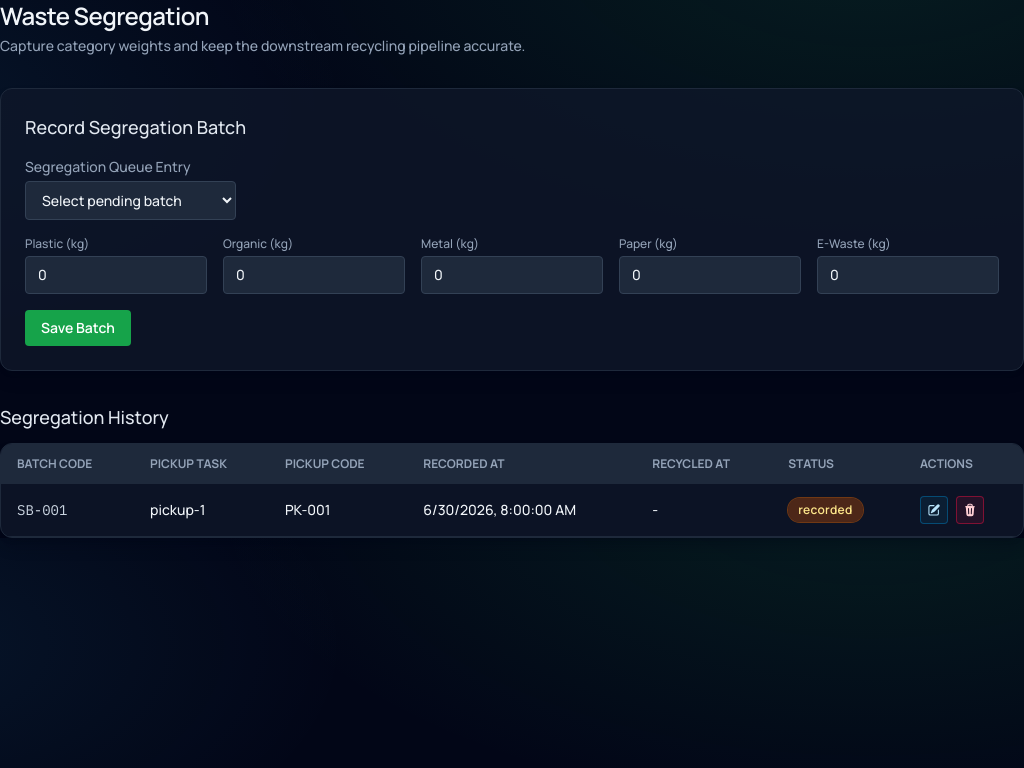
Test: SegregationPage integration › loads detail endpoint when view action is clicked
What coordinates should you click on to do the following:
click the button named "View"
I would click on:
 (934, 510)
Its box is left=920, top=496, right=948, bottom=524.
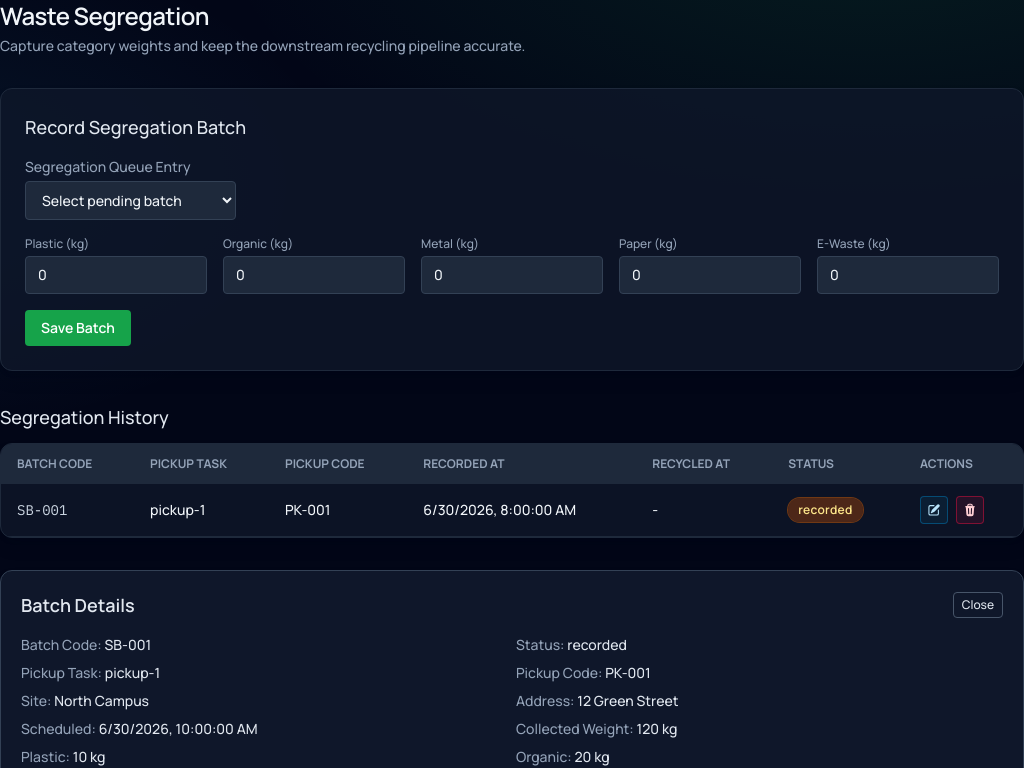
Expected: the text "Site: North Campus" is shown, left=21, top=691, right=149, bottom=710
